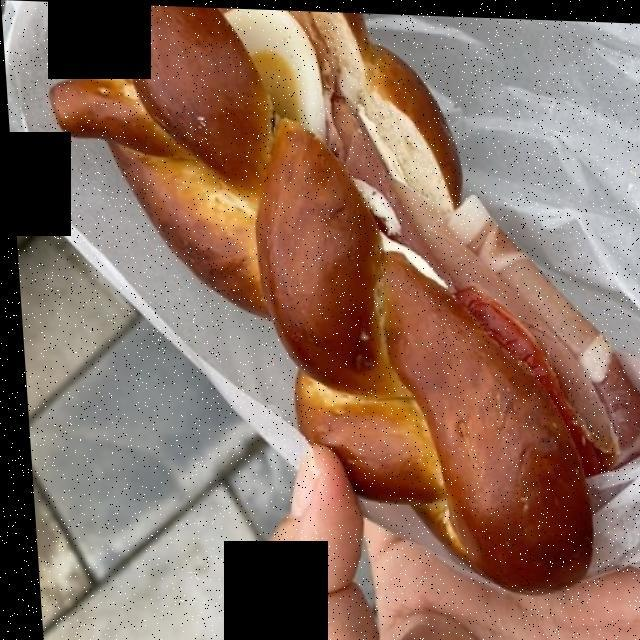egg: (241, 15, 332, 147)
ham: (375, 118, 611, 448)
